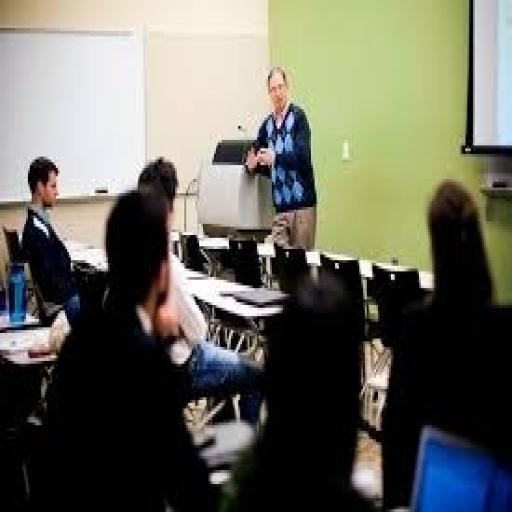sitting: (0, 148, 510, 509), (37, 185, 218, 509), (378, 176, 510, 509)
